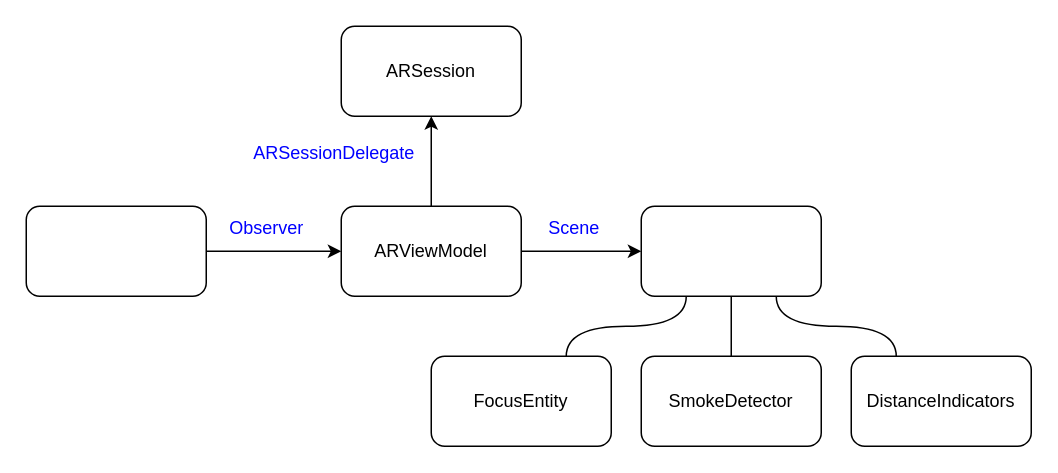
Some shapes in this 1058 by 473 pixel diagram are drawn without their labels. The shapes that lost their labels are listed below. From the top down, each one's box as (x1, y1, x2, y2) in pixels, then its label:
(25, 205, 206, 296): ARView/ ContentView
(640, 205, 821, 296): EntityModels
